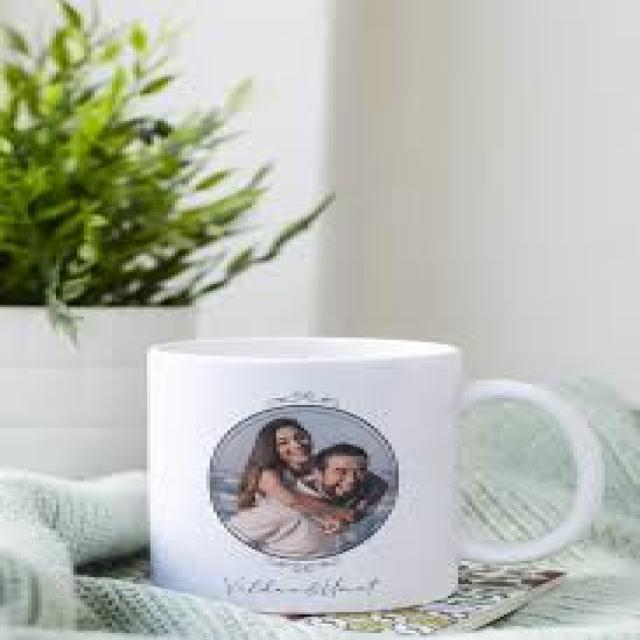taza: (145, 336, 603, 616)
